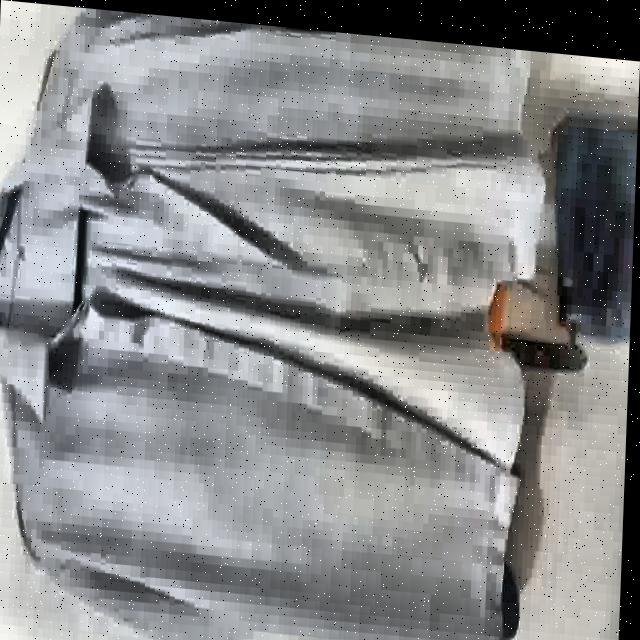clothes: (0, 1, 634, 640)
